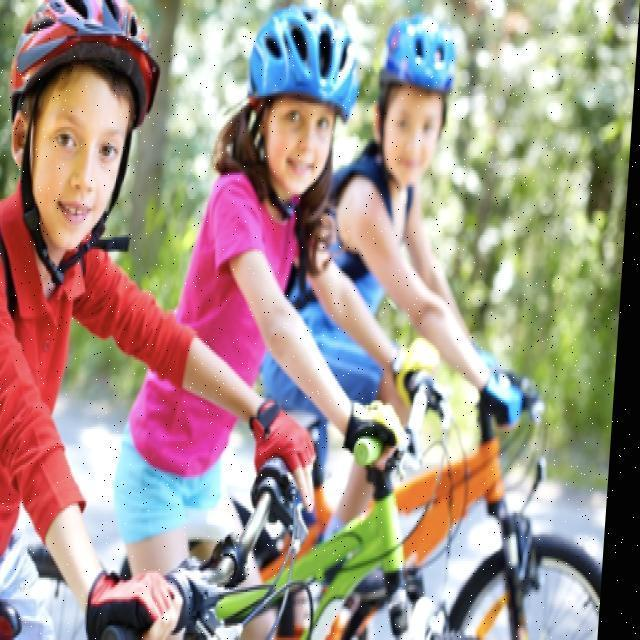Helmet: (1, 5, 164, 254), (238, 14, 369, 204)
